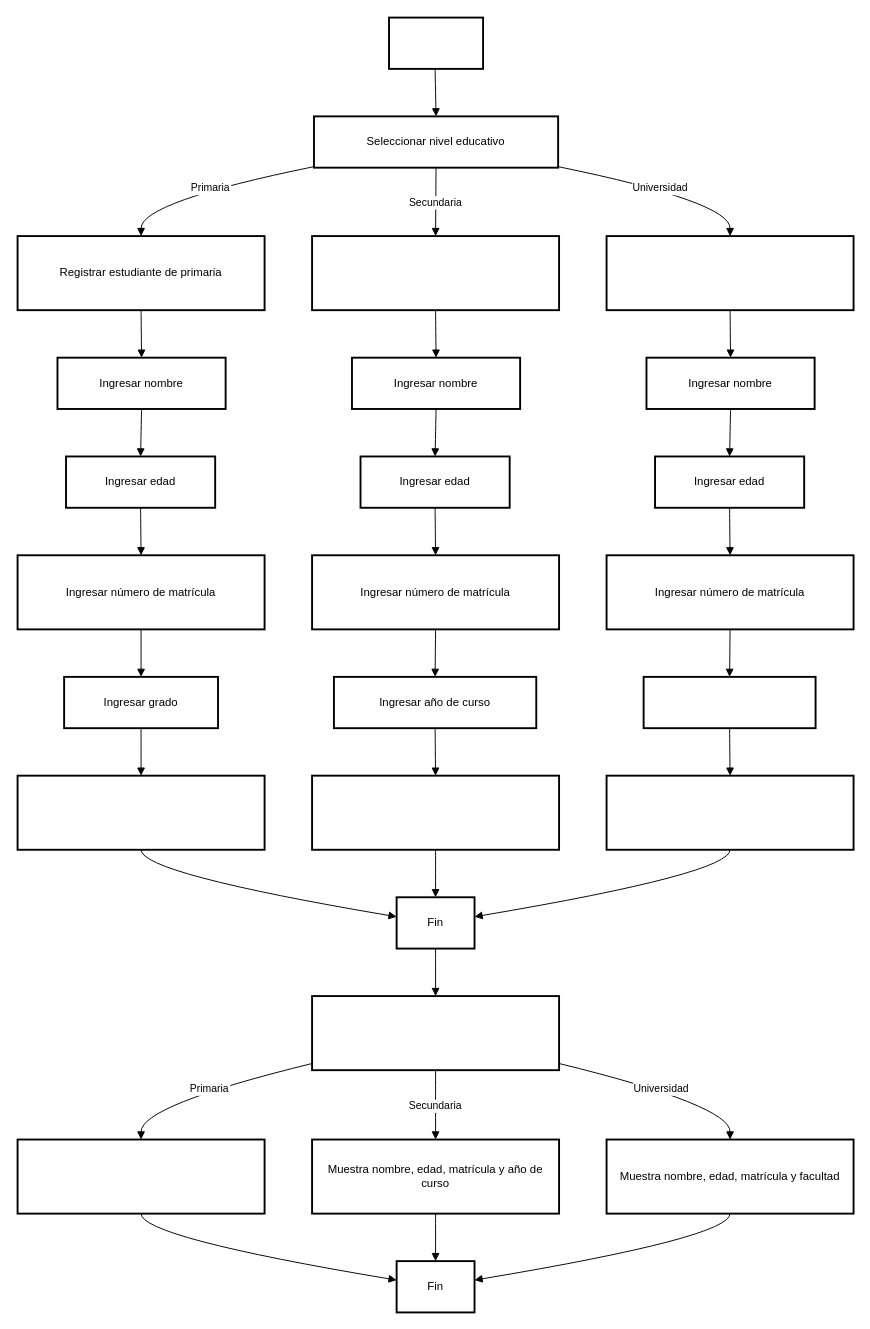
The diagram is 870 pixels wide and 1329 high, and some of its shapes have lost their labels. Here are the shapes that lost their labels. From the top down, the centre of each, then its label:
At [436,42]: "Inicio".
At [435,273]: "Registrar estudiante de secundaria".
At [729,273]: "Registrar estudiante universitario".
At [729,702]: "Ingresar facultad".
At [140,812]: "Guardar información de estudiante de primaria".
At [435,812]: "Guardar información de estudiante de secundaria".
At [729,812]: "Guardar información de estudiante universitario".
At [435,1033]: "Mostrar detalles según nivel educativo".
At [140,1176]: "Muestra nombre, edad, matrícula y grado".
